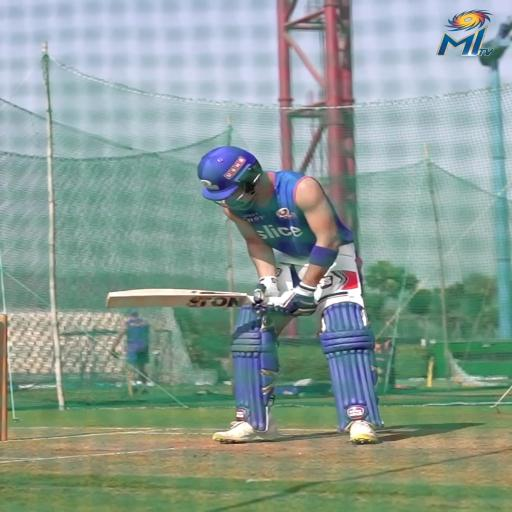Cricket bat: (106, 288, 252, 310)
